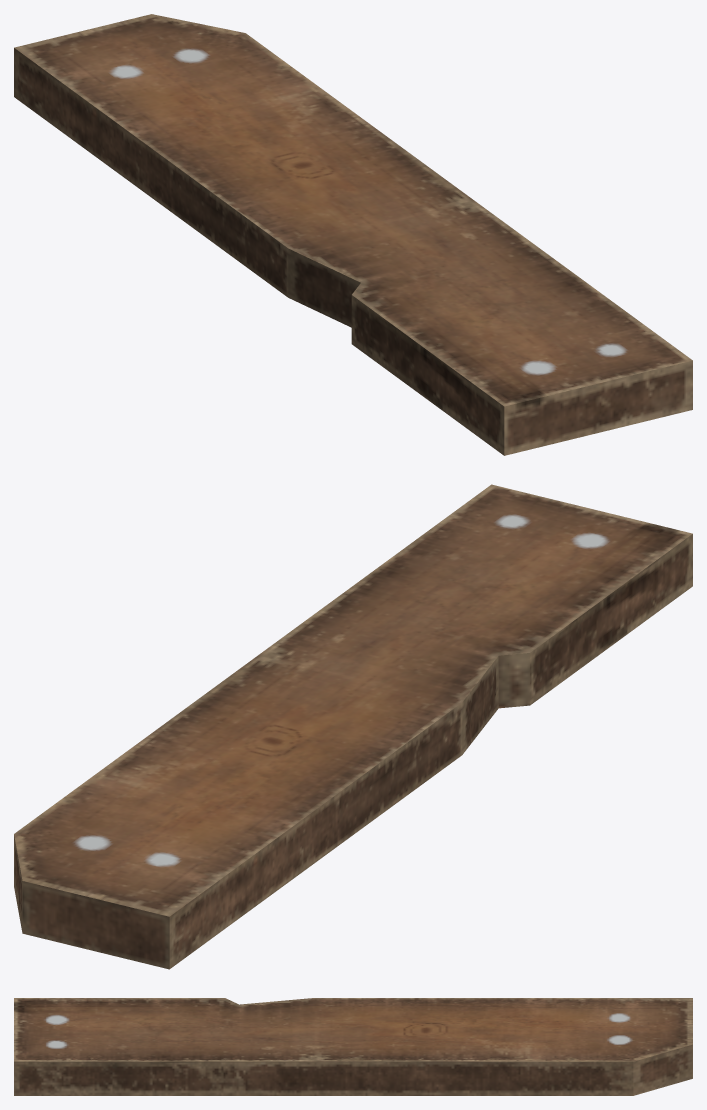
The model's file is Plank3.fbx.
3 views of the same model, one above another, from view 1: azimuth 30°, elevation 25°; view 2: azimuth 150°, elevation 25°; view 3: azimuth 270°, elevation 25° (orthographic). The views are drawn at different scales.
Parts seen in each view (by area): view 1: Wood Planks; view 2: Wood Planks; view 3: Wood Planks.
Part boxes in pixels (x1,y1,x2,y2): Wood Planks: [14, 14, 692, 455]; Wood Planks: [14, 484, 692, 969]; Wood Planks: [14, 998, 692, 1095].
Size of the model in its own units: 15.24 by 3.81 by 68.58.
